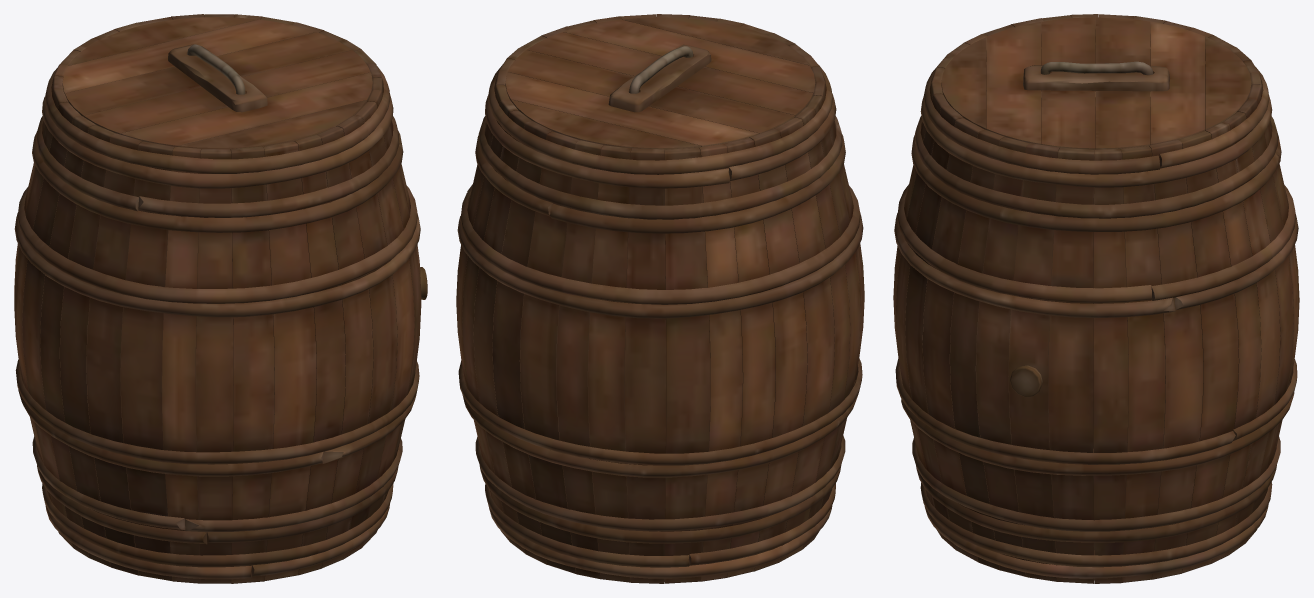
Rendered from barrel1.glb.
The picture shows the model from 3 angles, left to right: view 1: azimuth 30°, elevation 25°; view 2: azimuth 150°, elevation 25°; view 3: azimuth 270°, elevation 25°; orthographic projection.
Visible parts, largest first — view 1: wooden_barrels_01_barrel01; view 2: wooden_barrels_01_barrel01; view 3: wooden_barrels_01_barrel01.
Part boxes in pixels (bbox=[...]): wooden_barrels_01_barrel01: bbox=[14, 14, 427, 583]; wooden_barrels_01_barrel01: bbox=[456, 14, 864, 583]; wooden_barrels_01_barrel01: bbox=[893, 14, 1299, 583].
Size of the model in its own units: 0.743 by 0.9168 by 0.743.
1 material, 1 textured.
